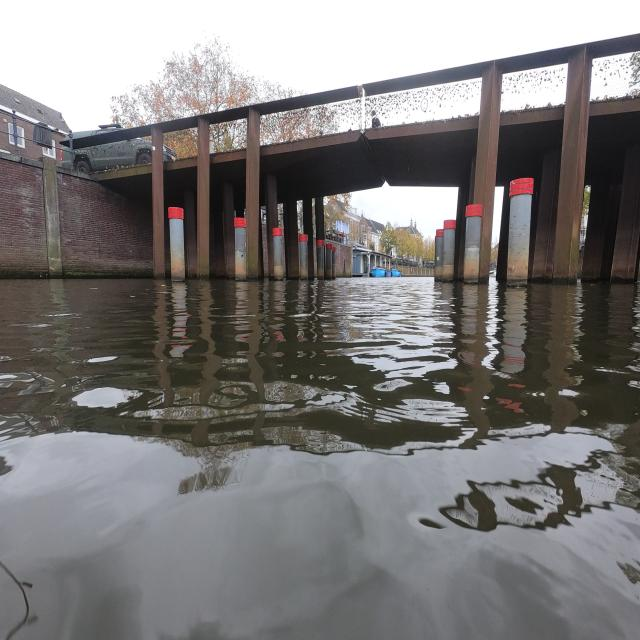boat: (369, 267, 392, 277)
sky: (4, 6, 630, 132), (352, 182, 458, 238)
wall: (2, 146, 152, 276)
water: (8, 278, 636, 634)
